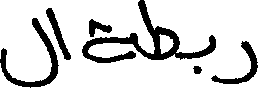ا: (54, 11, 70, 78)
ب: (190, 33, 216, 75)
ة: (81, 16, 135, 63)
ر: (228, 38, 255, 83)
ط: (137, 0, 179, 61)
ل: (0, 5, 55, 86)
